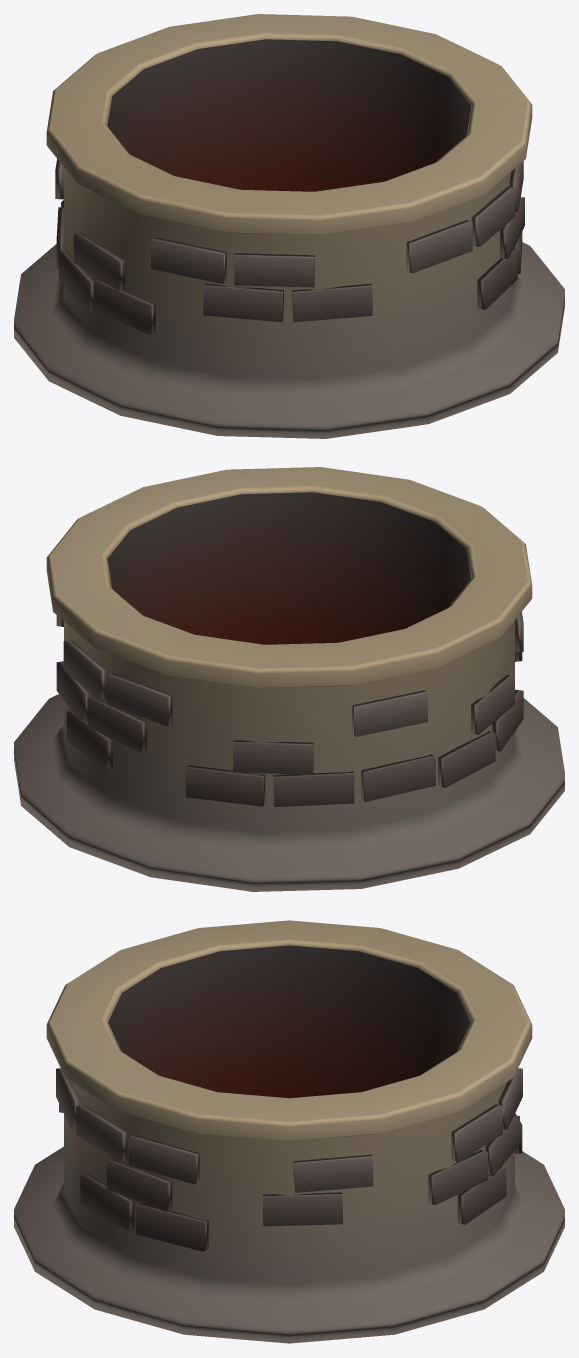
The model's file is Prop_well_01.fbx.
3 renders of one model, top to bottom at view 1: azimuth 30°, elevation 25°; view 2: azimuth 150°, elevation 25°; view 3: azimuth 270°, elevation 25°, orthographic.
Parts seen in each view (by area): view 1: Well; view 2: Well; view 3: Well.
Part boxes in pixels (x1=…): Well: x1=14, y1=14, x2=564, y2=438; Well: x1=14, y1=467, x2=564, y2=891; Well: x1=14, y1=920, x2=564, y2=1343.
Bounding box in the file's own units: 323 × 135 × 323.
